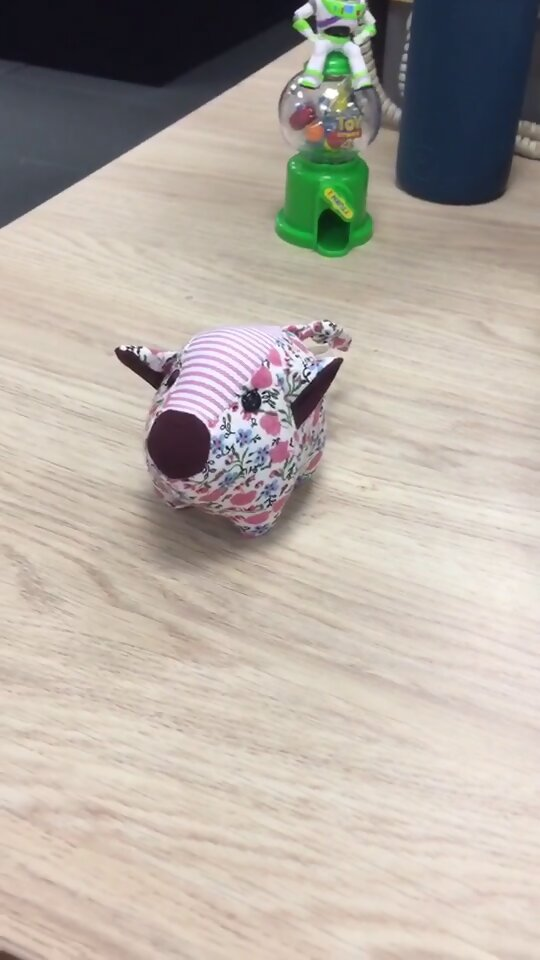pig: (110, 315, 356, 539)
